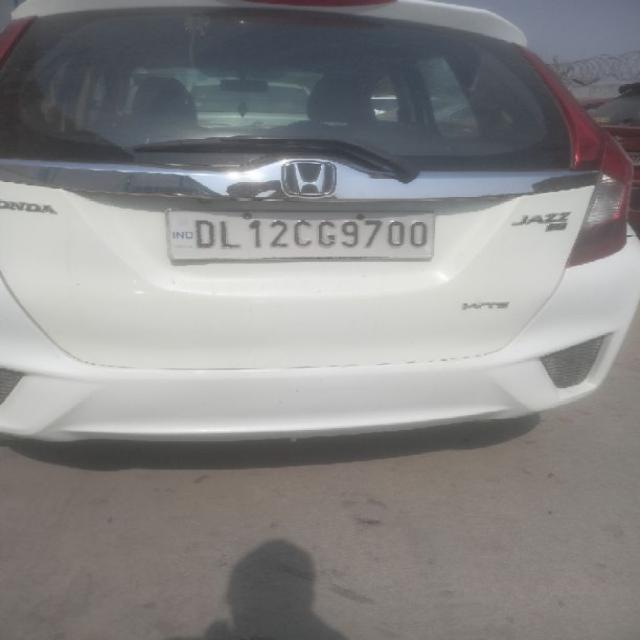license_plate: (163, 207, 436, 263)
